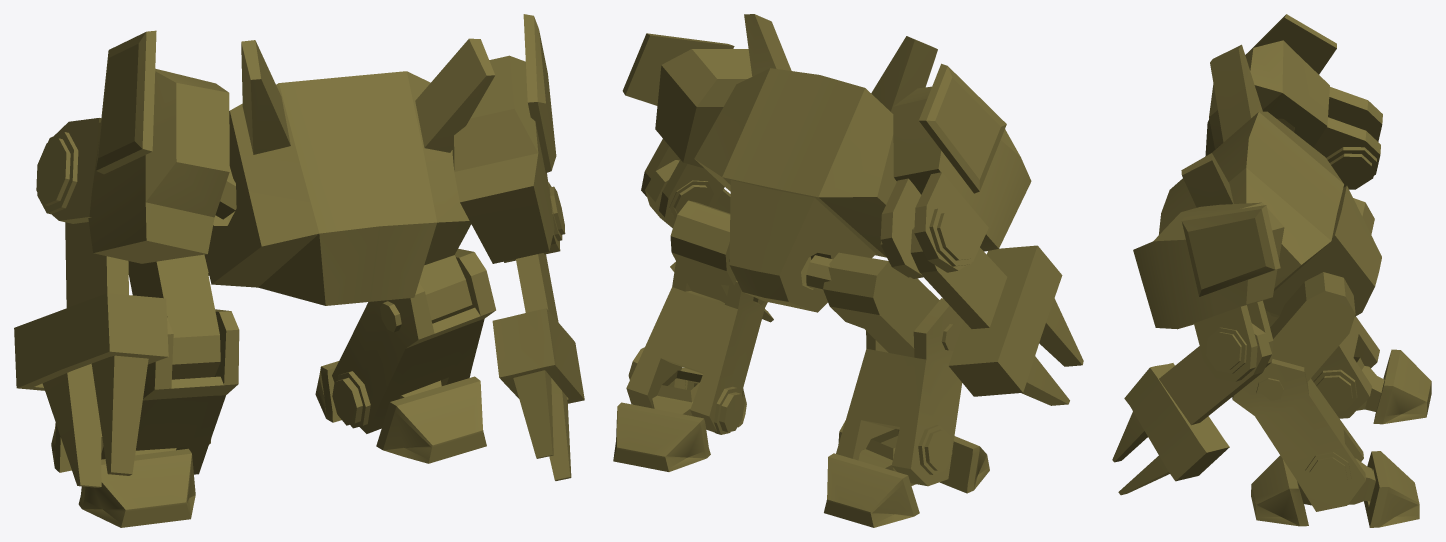
The model's file is robot_test_02.gltf.
3 renders of one model, left to right at view 1: azimuth 30°, elevation 25°; view 2: azimuth 150°, elevation 25°; view 3: azimuth 270°, elevation 25°, orthographic. The views are drawn at different scales.
Parts seen in each view (by area): view 1: Torso, Right_Shoulder, Left_Shoulder, Left_Lower_Leg, Right_Claw_Box, Right_Lower_Leg, Right_Thigh, Leftt_Toe, Right_Toe, Right_SHoulder_Wing, Left_Claw_Box, Left_Wing (+13 smaller); view 2: Torso, Right_Lower_Leg, Left_Lower_Leg, Pelvis, Right_Claw_Box, Right_Shoulder, Right_Thigh, Left_Shoulder, Right_SHoulder_Wing, pCylinder27__3_1, Left_Heel, Right_Heel (+17 smaller); view 3: Torso, Left_Lower_Leg, Left_Shoulder, Left_Shoulder_Wing, Right_Shoulder, Left_Thigh, Left_Claw_Box, Pelvis, Left_Forearm, pCylinder27__3_1, Right_Wing, Right_Heel (+14 smaller).
Boxes of the visible parts, x1,y1,x2,y2 form: Torso: (204,71,471,305); Right_Shoulder: (88,68,229,263); Left_Shoulder: (452,55,554,263); Left_Lower_Leg: (332,248,495,433); Right_Claw_Box: (14,293,168,390); Right_Lower_Leg: (101,309,239,474); Right_Thigh: (128,254,220,379); Leftt_Toe: (376,376,486,463); Right_Toe: (78,448,195,527); Right_SHoulder_Wing: (96,30,156,174); Left_Claw_Box: (492,308,584,403); Left_Wing: (415,38,495,152); Torso: (694,68,896,257); Right_Lower_Leg: (836,298,963,486); Left_Lower_Leg: (626,261,767,432); Pelvis: (729,180,875,312); Right_Claw_Box: (948,245,1062,396); Right_Shoulder: (893,86,1031,251); Right_Thigh: (823,252,939,357); Left_Shoulder: (655,49,752,168); Right_SHoulder_Wing: (919,63,1006,193); pCylinder27__3_1: (880,172,988,278); Left_Heel: (613,402,710,471); Right_Heel: (824,453,919,527); Torso: (1159,111,1343,290); Left_Lower_Leg: (1232,359,1365,511); Left_Shoulder: (1133,202,1284,329); Left_Shoulder_Wing: (1181,205,1280,296); Right_Shoulder: (1205,40,1329,156); Left_Thigh: (1270,272,1355,382); Left_Claw_Box: (1124,363,1229,481); Pelvis: (1263,185,1381,316); Left_Forearm: (1159,323,1271,425); pCylinder27__3_1: (1313,87,1382,175); Right_Wing: (1210,44,1262,142); Right_Heel: (1373,349,1431,424).
Bounding box in the file's own units: 1.89 × 1.74 × 1.31.
